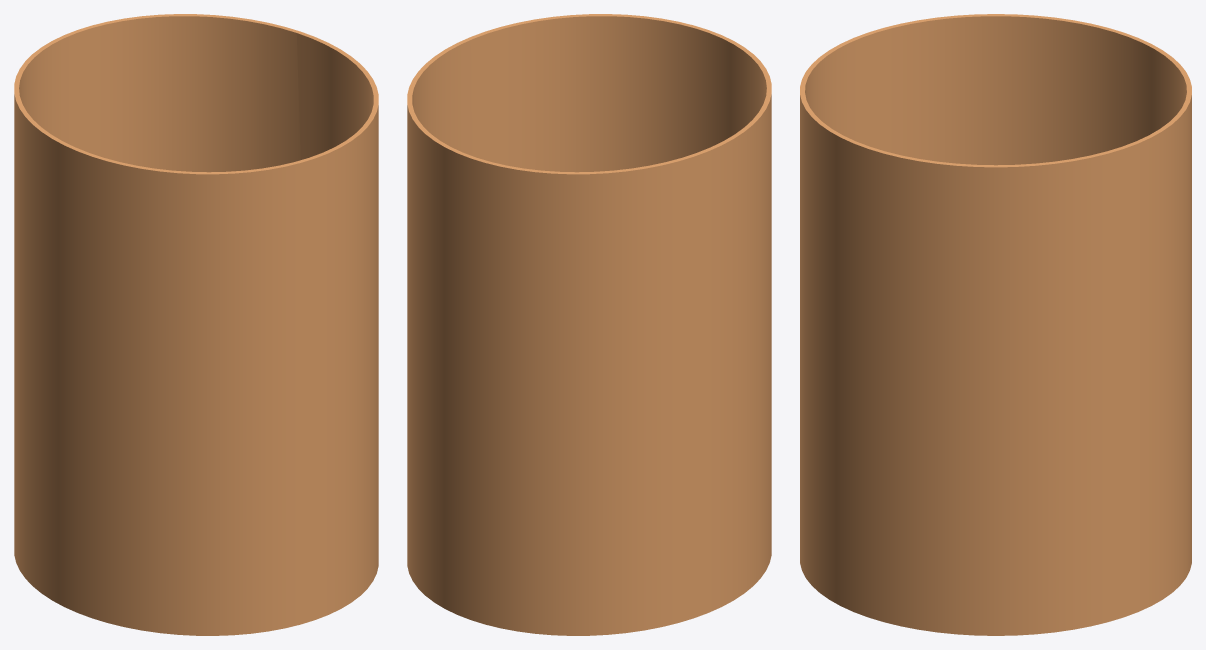
The picture shows the model from 3 angles, left to right: view 1: azimuth 30°, elevation 25°; view 2: azimuth 150°, elevation 25°; view 3: azimuth 270°, elevation 25°; orthographic projection.
Visible parts, largest first — view 1: wall; view 2: wall; view 3: wall.
Boxes of the visible parts, x1=… form: wall: x1=14, y1=14, x2=378, y2=635; wall: x1=407, y1=14, x2=771, y2=635; wall: x1=800, y1=14, x2=1191, y2=635.
Size of the model in its own units: 0.0702 by 0.1 by 0.0758.
